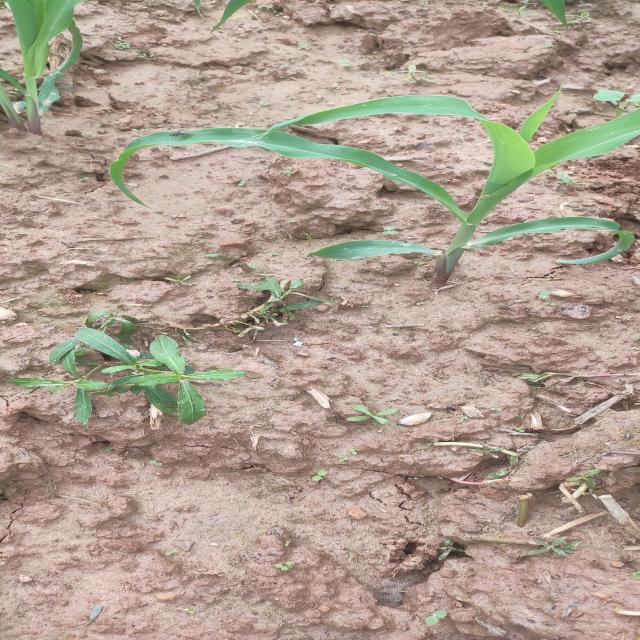maize: (184, 60, 613, 304)
weed: (11, 326, 278, 431), (450, 504, 600, 558), (494, 441, 634, 494), (219, 272, 338, 314), (318, 398, 439, 428), (598, 81, 640, 109)
